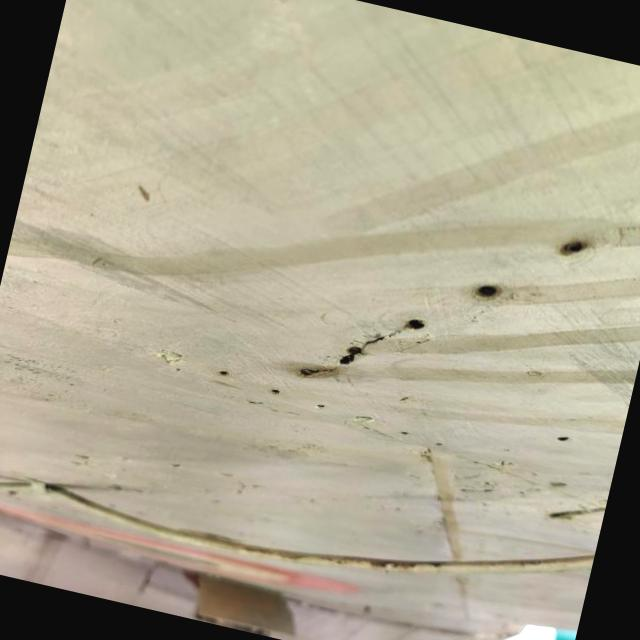crack: (284, 282, 435, 412)
